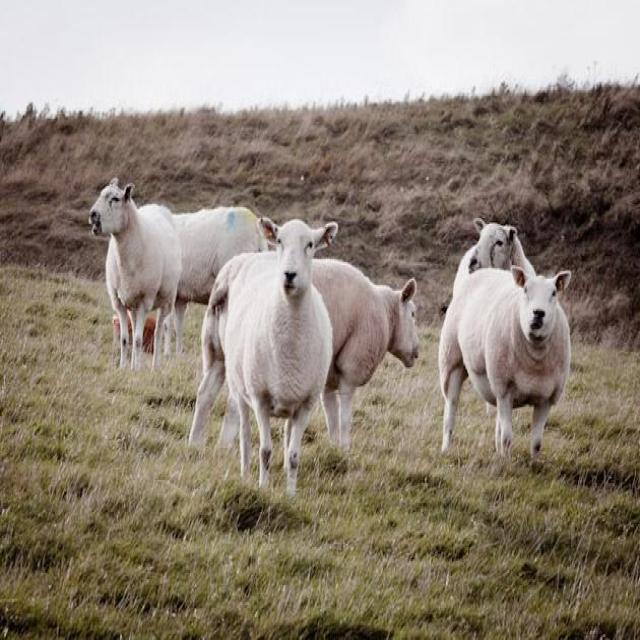Sheep: (188, 216, 339, 494), (439, 265, 572, 466), (82, 166, 182, 373), (313, 262, 421, 431), (176, 206, 267, 302), (468, 216, 542, 276)
